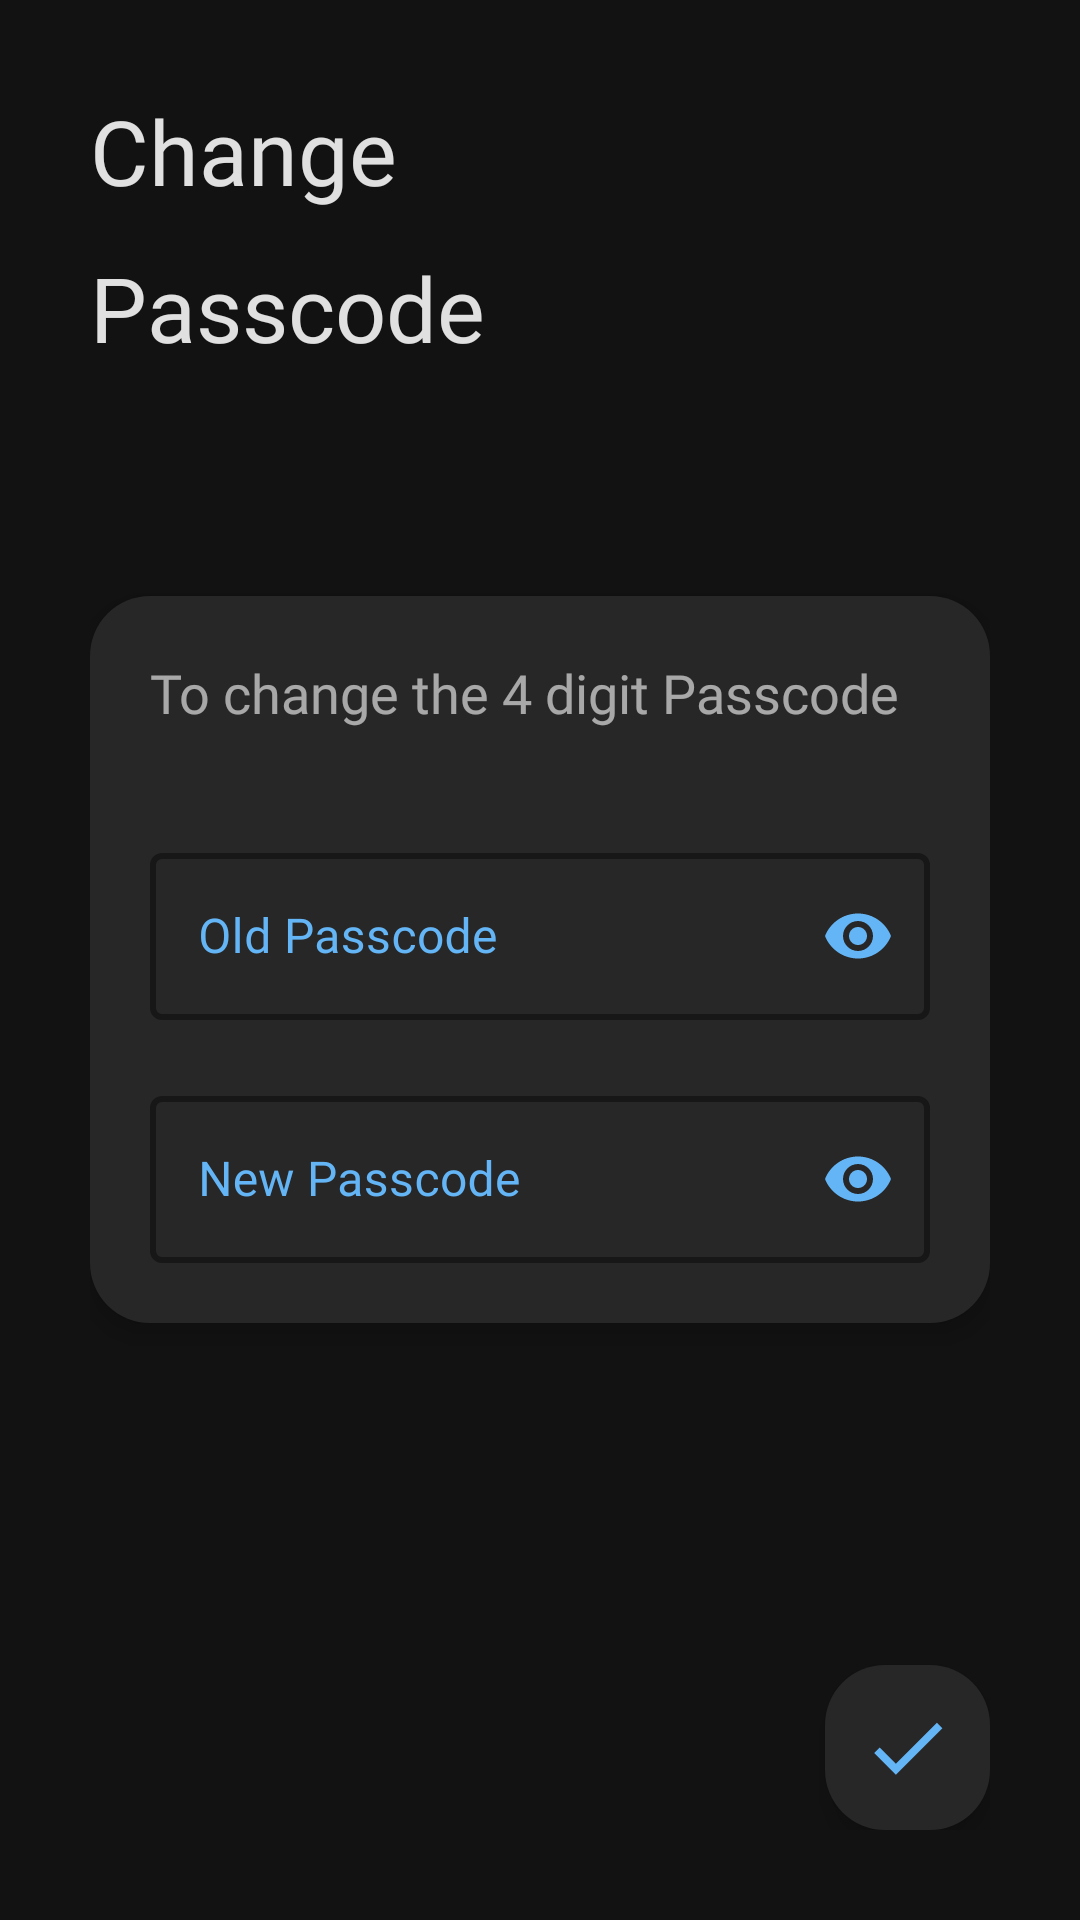

Locate icon controls on the screen. Image size 1080 × 1920, boxes as [x1, y1, x2, y2].
check: [825, 1665, 990, 1830]
